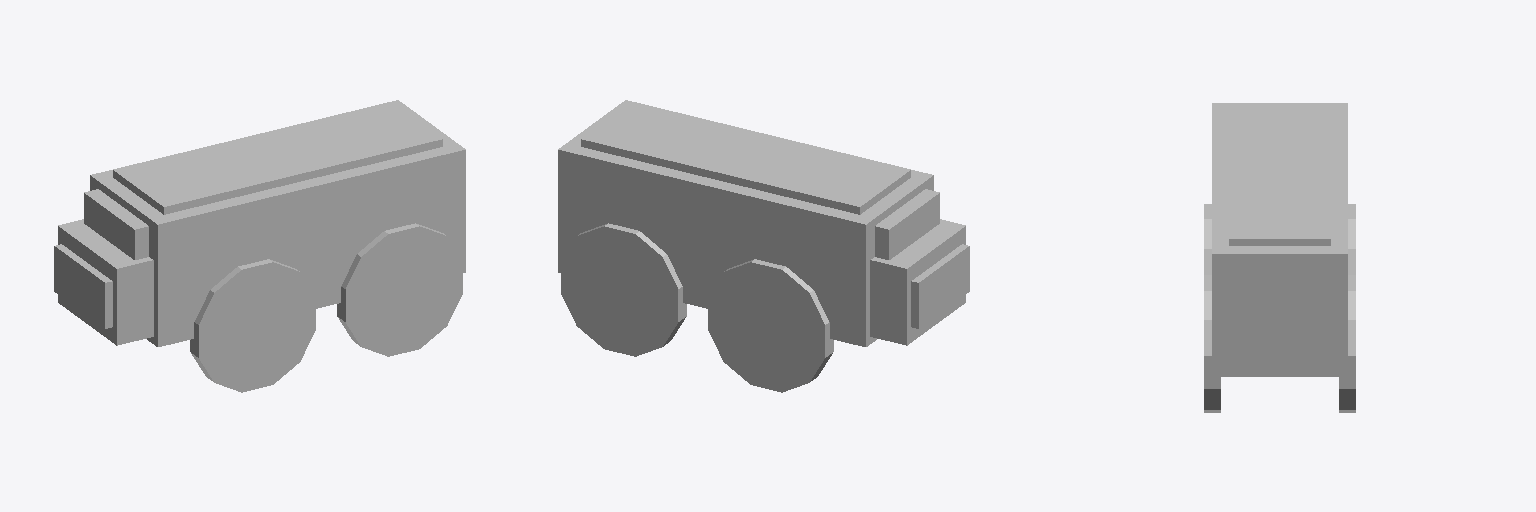
Rendered from Voiture.obj.
3 renders of one model, left to right at view 1: azimuth 30°, elevation 25°; view 2: azimuth 150°, elevation 25°; view 3: azimuth 270°, elevation 25°, orthographic.
Visible parts, largest first — view 1: cylinder; view 2: cylinder; view 3: cylinder.
Part boxes in pixels (x1,y1,x2,y2): cylinder: (54,100,465,392); cylinder: (558,100,969,392); cylinder: (1204,103,1355,412).
Bounding box in the file's own units: 1.5 × 0.7812 × 0.5625.